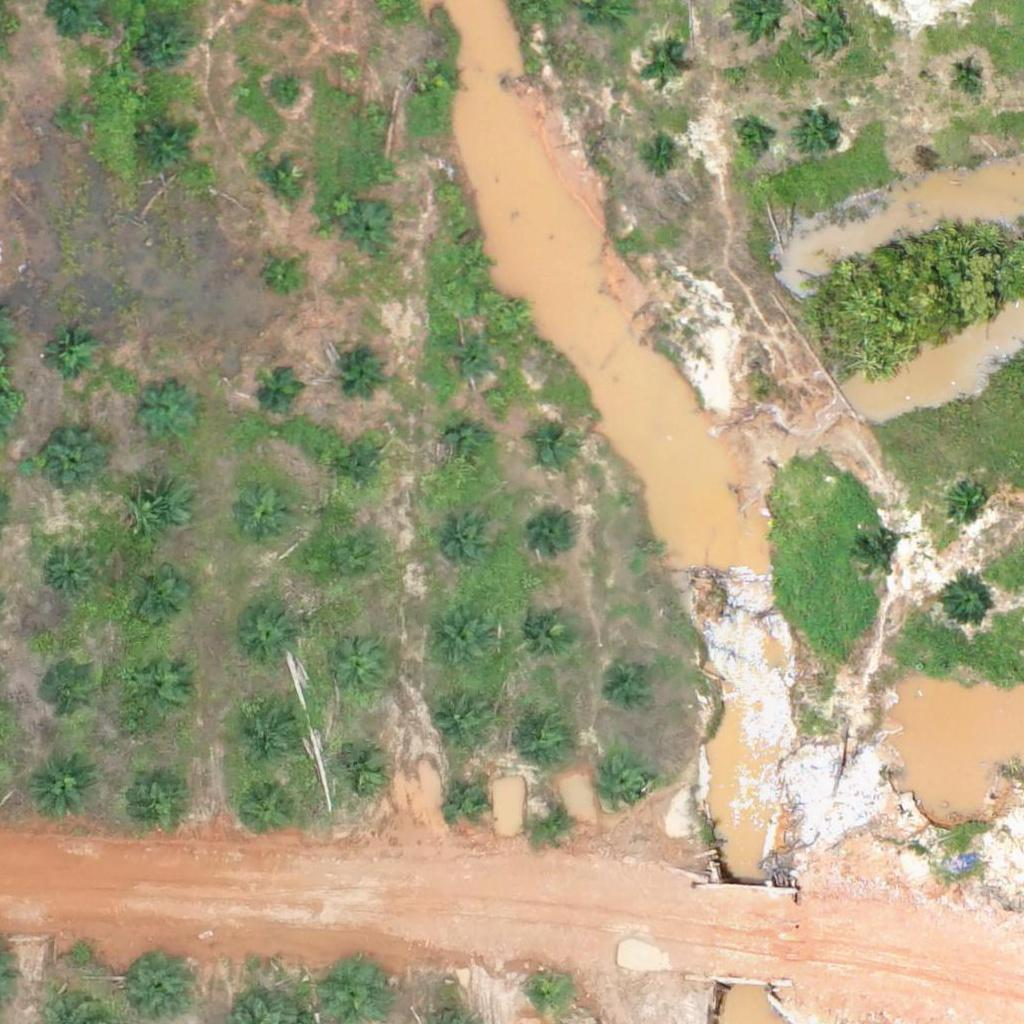Kelapa_Sawit: (315, 536, 378, 599), (430, 512, 493, 575), (38, 329, 101, 392), (42, 429, 105, 492), (29, 756, 92, 819), (428, 609, 491, 672), (125, 654, 188, 717), (123, 761, 186, 824), (39, 661, 102, 724), (235, 778, 298, 841), (324, 959, 387, 1022), (515, 705, 578, 768), (429, 690, 492, 753), (795, 1, 858, 64), (126, 568, 188, 631), (237, 483, 299, 546), (136, 381, 198, 444), (239, 700, 301, 763), (236, 604, 298, 667), (325, 642, 387, 705), (330, 740, 392, 803), (515, 600, 577, 663), (132, 481, 194, 544), (144, 19, 194, 70), (143, 122, 193, 173), (442, 775, 492, 826), (528, 796, 578, 847), (254, 154, 304, 205), (42, 550, 92, 600), (531, 511, 581, 561), (338, 342, 388, 392), (256, 367, 306, 417), (445, 337, 495, 387), (344, 206, 394, 256), (441, 422, 491, 472), (527, 421, 577, 471), (940, 579, 990, 629), (599, 762, 649, 812), (609, 657, 659, 707), (521, 970, 571, 1020), (943, 475, 993, 525), (852, 531, 902, 581), (335, 446, 385, 496), (793, 109, 843, 159), (453, 244, 491, 282), (265, 255, 303, 293), (643, 45, 681, 83), (644, 136, 682, 174), (731, 119, 769, 157), (357, 96, 395, 134), (950, 56, 987, 94), (421, 58, 458, 96), (55, 98, 92, 136), (267, 77, 304, 114)
